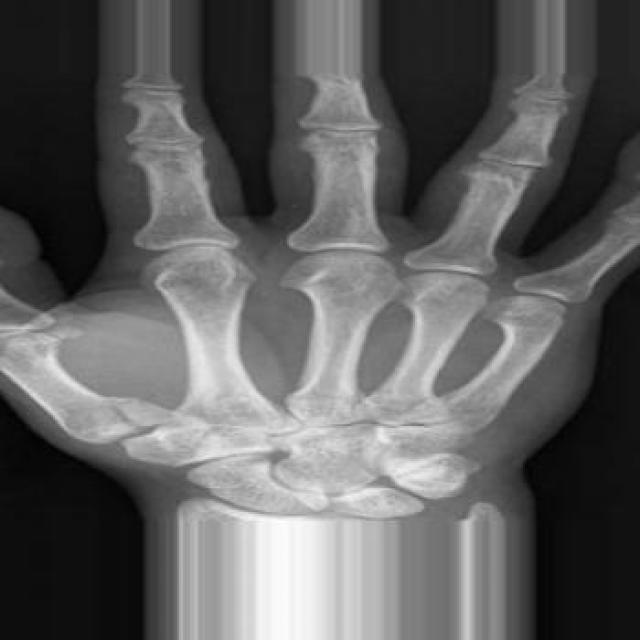Fracture: (97, 386, 164, 439)
